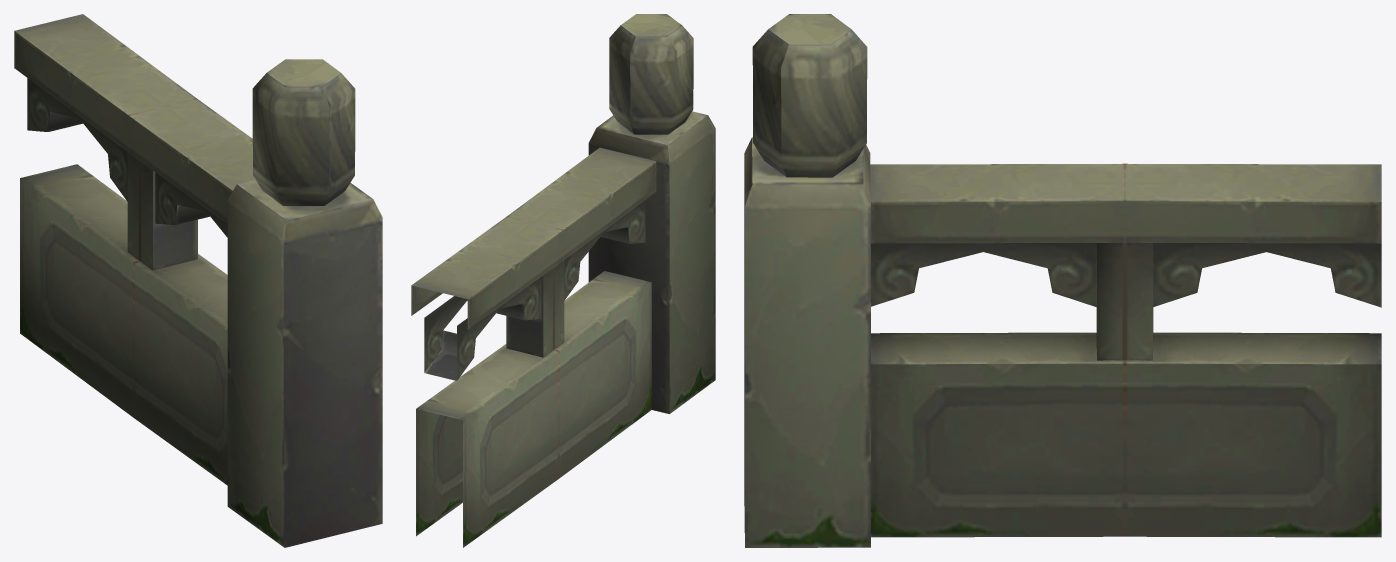
File: langan_01.FBX
The picture shows the model from 3 angles, left to right: view 1: azimuth 30°, elevation 25°; view 2: azimuth 150°, elevation 25°; view 3: azimuth 270°, elevation 25°; orthographic projection. The views are drawn at different scales.
Visible parts, largest first — view 1: langan_01; view 2: langan_01; view 3: langan_01.
Part boxes in pixels (x1=…): langan_01: x1=14, y1=14, x2=382, y2=547; langan_01: x1=411, y1=14, x2=715, y2=547; langan_01: x1=744, y1=14, x2=1381, y2=547.
Bounding box in the file's own units: 9.04 × 38.66 × 45.4.
